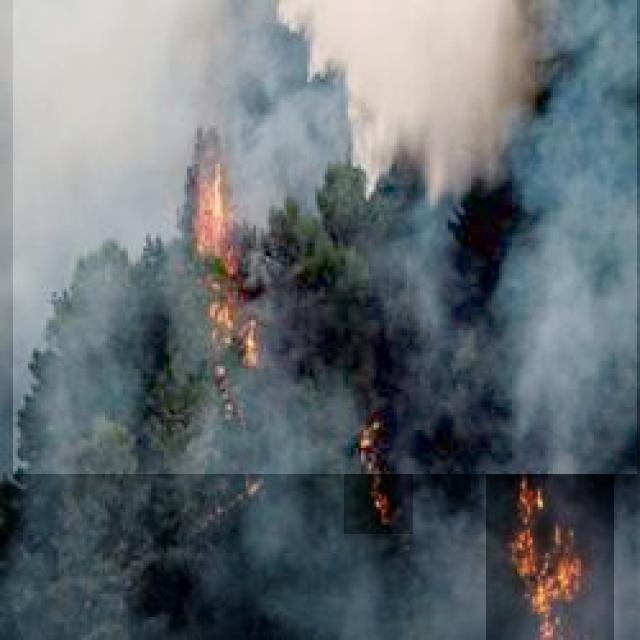Fire: (166, 146, 280, 358), (486, 461, 614, 640), (344, 421, 413, 534)
Smoke: (13, 0, 637, 474)
